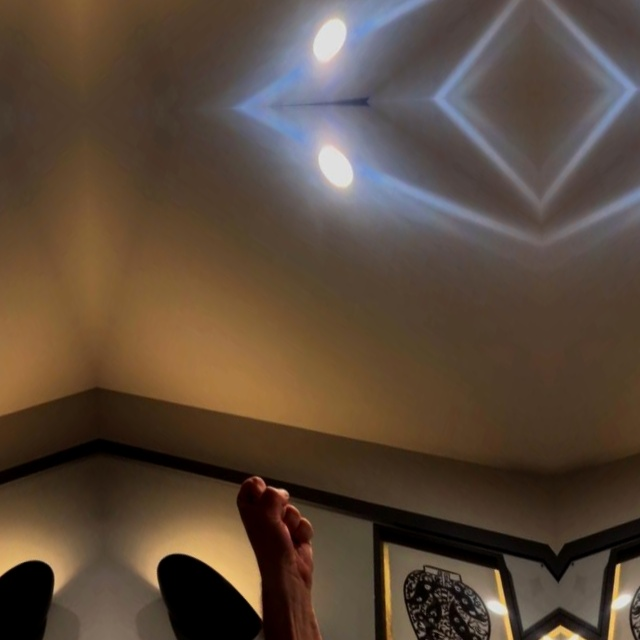Rock: (224, 458, 332, 594)
